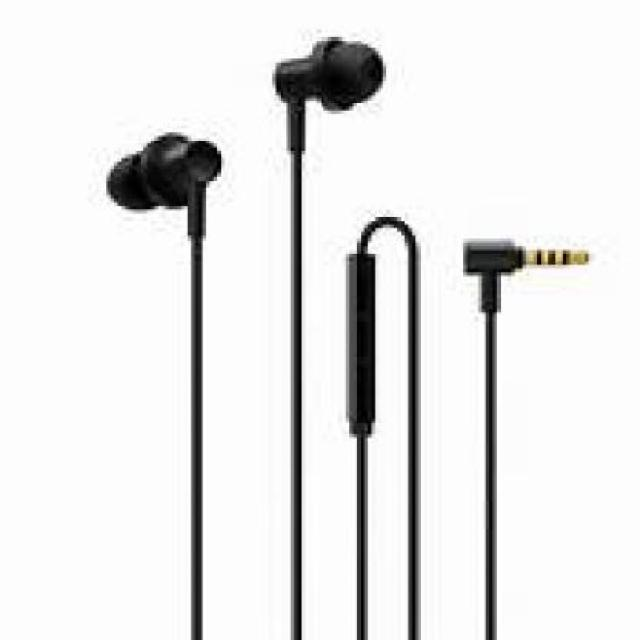earphone: (111, 41, 354, 640)
